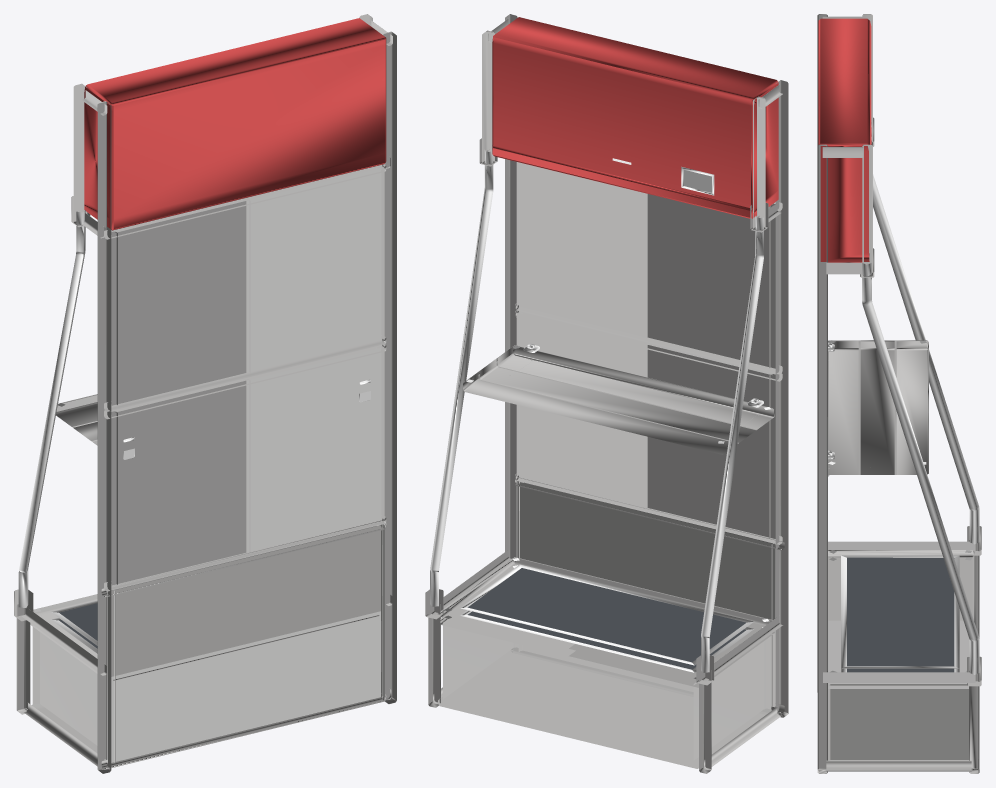
The model's file is rack_clothing_2_02x01x045_c.glb.
3 renders of one model, left to right at view 1: azimuth 30°, elevation 25°; view 2: azimuth 150°, elevation 25°; view 3: azimuth 270°, elevation 25°, orthographic. The views are drawn at different scales.
Bounding box in the file's own units: 1.6 × 3.42 × 0.8127.
